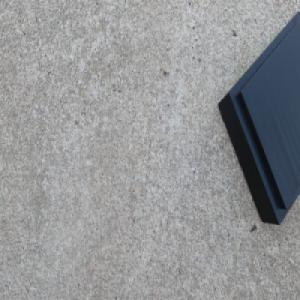PlasticPart: (216, 9, 300, 228)
